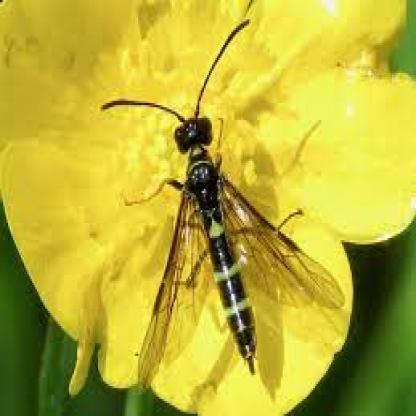sawfly: (103, 15, 343, 398)
